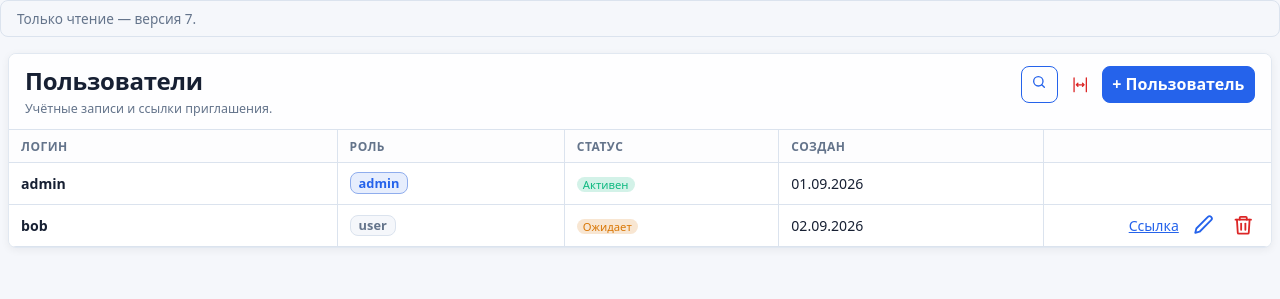
Test case: UsersPage › uses the shared users table shell and column search
The image size is (1280, 299).
Expected: the heading "Пользователи" is shown, [25, 64, 203, 97]
Click the button named "Открыть поиск" at (1039, 84), box [1020, 66, 1058, 103]
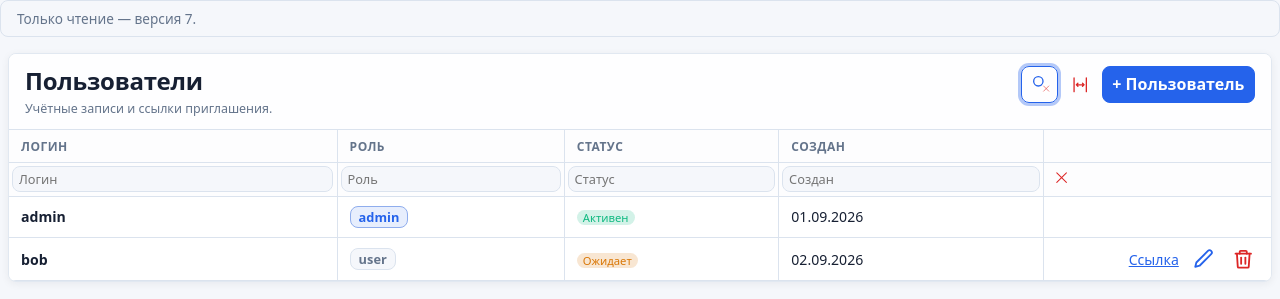
Type "bob" into the field with placeholder "Логин" at (173, 179), box [12, 166, 333, 192]
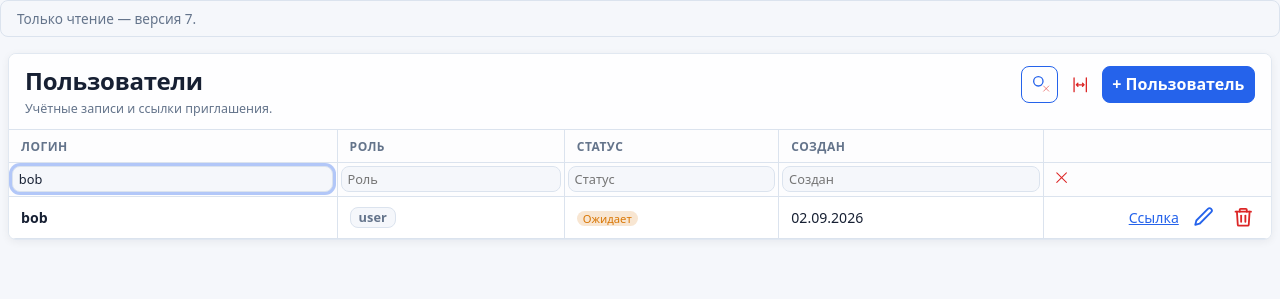
Expected: the text "bob" is shown, [9, 196, 337, 239]
Result: the text "admin" is gone
